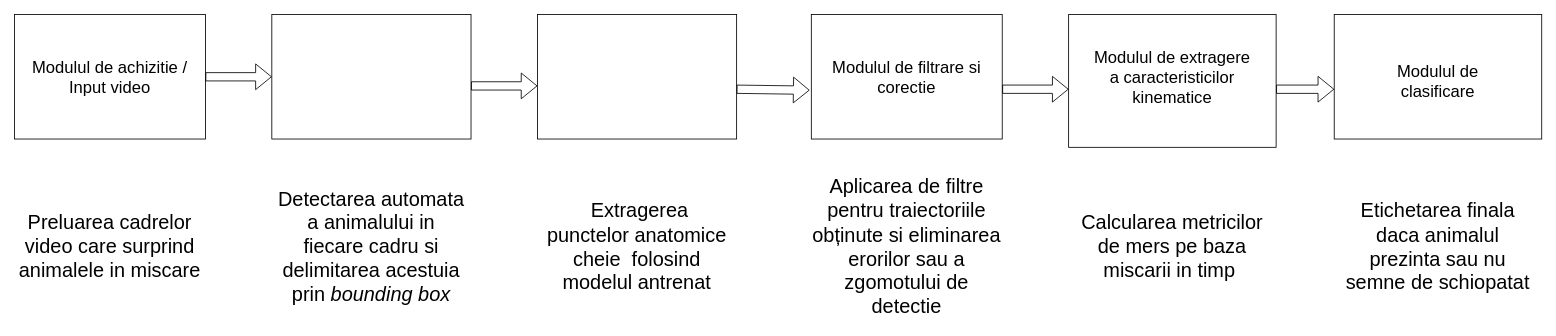
This 1556x336 diagram has some shape labels left out. The centre of each missing label's shape, as x and y in pixels:
"Modulul de detectie si localizare (YOLOv8)" belongs at point 371,76.
"Modulul de estimare a pozitiei" belongs at point 637,76.
